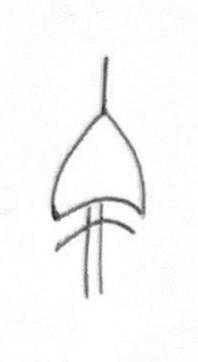XOR: (31, 101, 169, 252)
